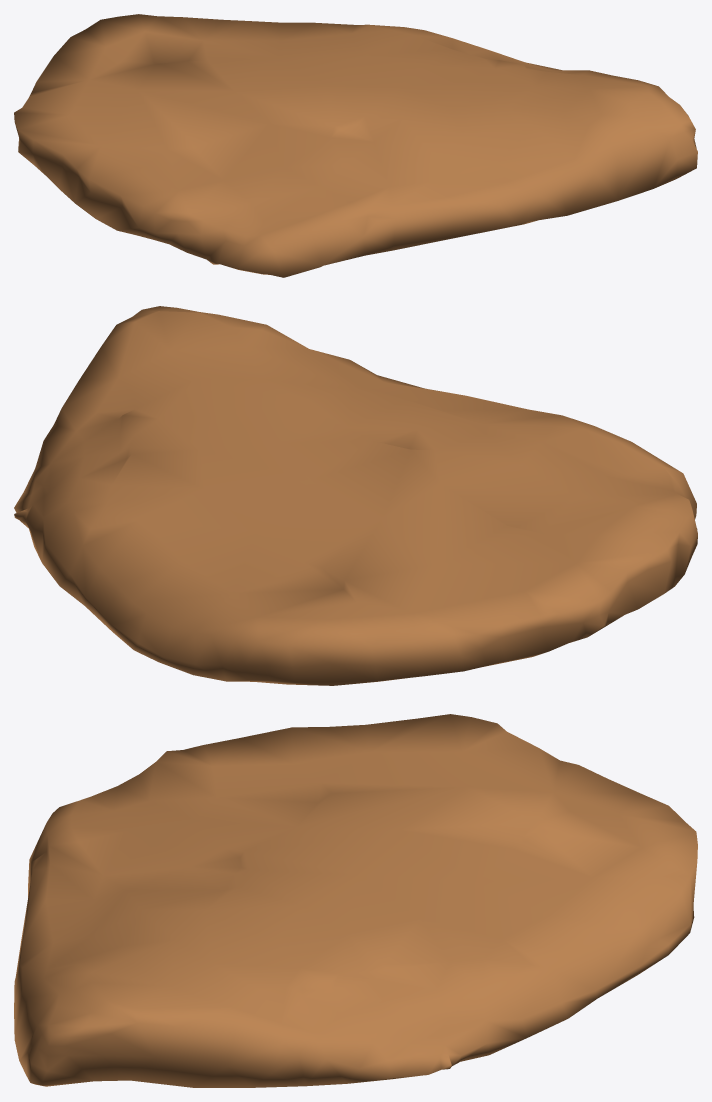
The model's file is MSH_Rocks_Boulder_29.FBX.
The picture shows the model from 3 angles, top to bottom: view 1: azimuth 30°, elevation 25°; view 2: azimuth 150°, elevation 25°; view 3: azimuth 270°, elevation 25°; orthographic projection. The views are drawn at different scales.
Visible parts, largest first — view 1: MESH_LOD0; view 2: MESH_LOD0; view 3: MESH_LOD0.
Boxes of the visible parts, box(x1,y1,x2,y2) form: MESH_LOD0: box(14, 14, 697, 277); MESH_LOD0: box(14, 306, 697, 685); MESH_LOD0: box(14, 714, 697, 1087).
Size of what is drawn, in the model's own units: 219 by 30.7 by 197.
